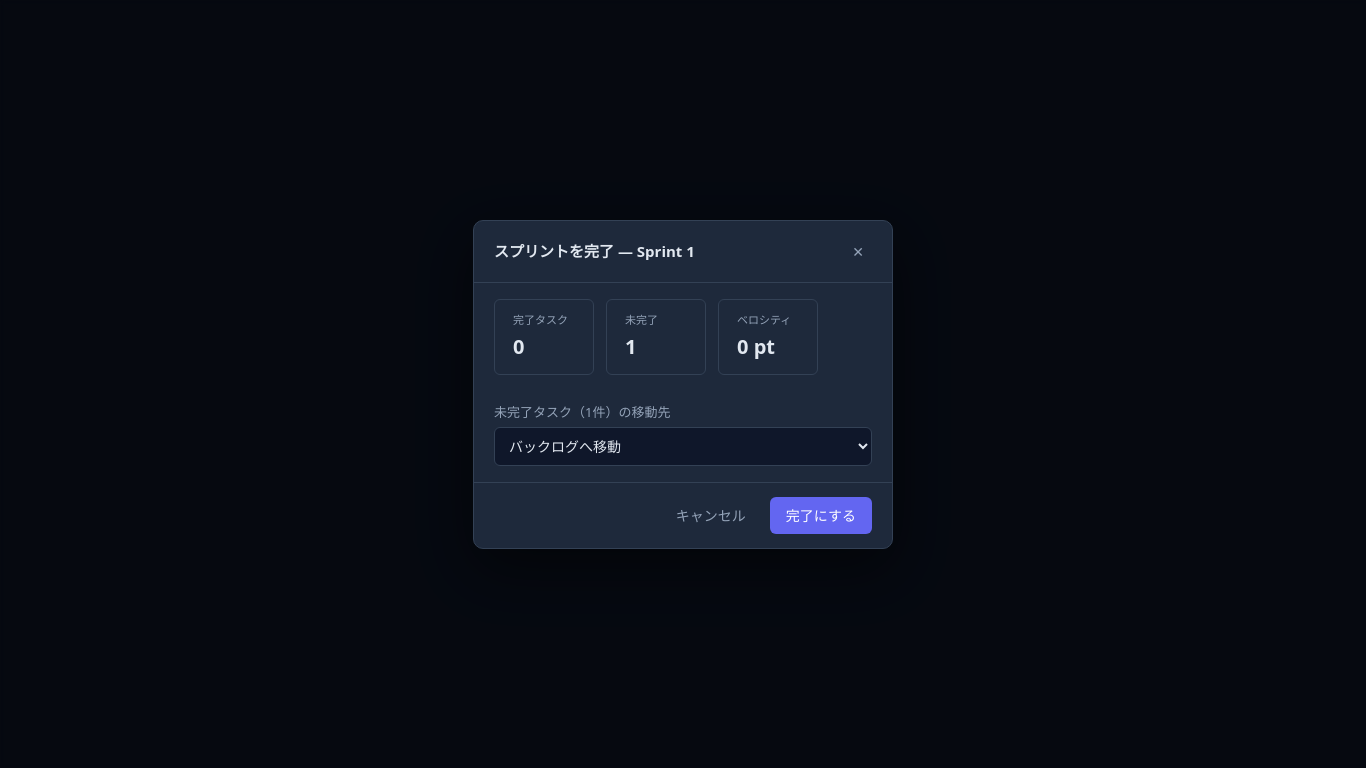
Test case: CompleteSprintModal - 未完了タスクの移動先 (R-011 / AT-048) › 「次のスプリントへ移動」選択時、対象スプリント未選択だと完了ボタンが非活性
This screenshot has width=1366, height=768.
Select "次のスプリントへ移動" in the dropdown at (683, 446), box [494,426,872,466]
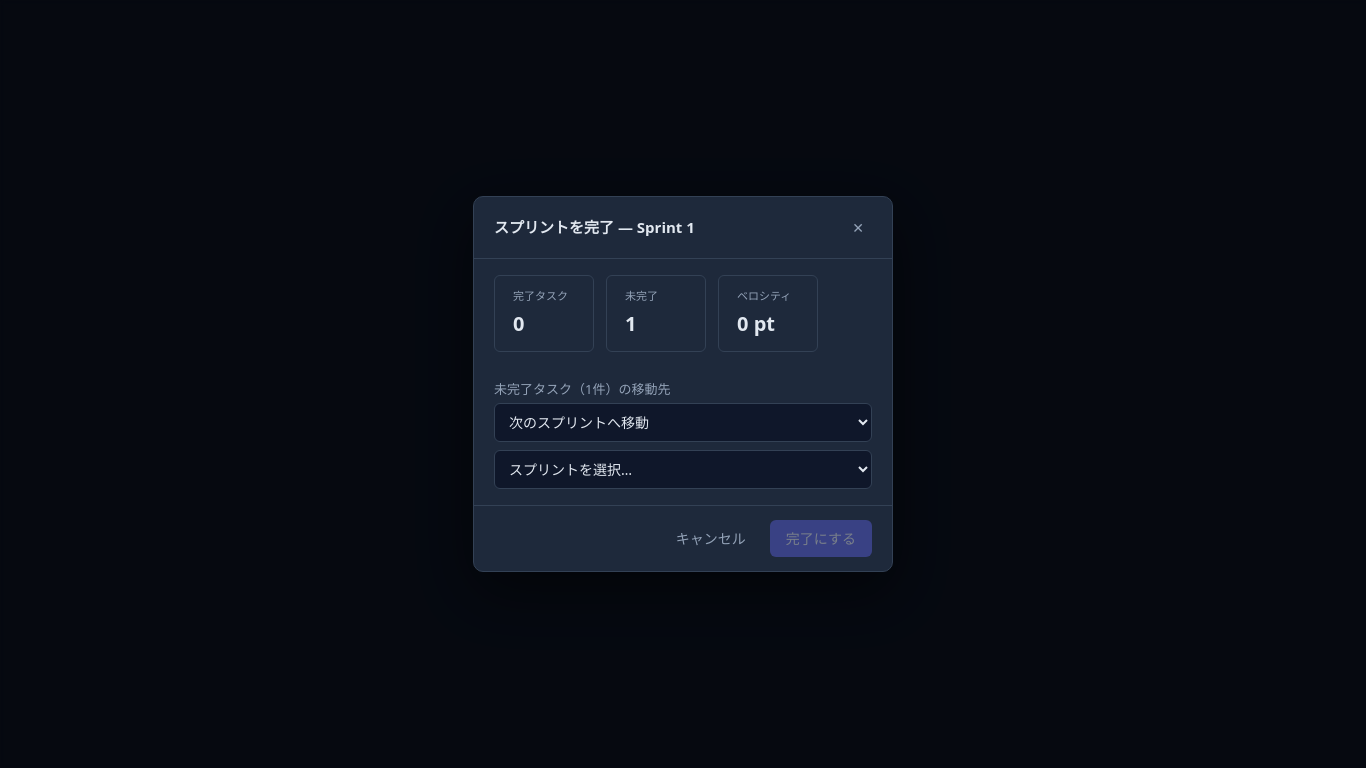
Now the button "完了にする" is disabled, box [770,520,872,557]
